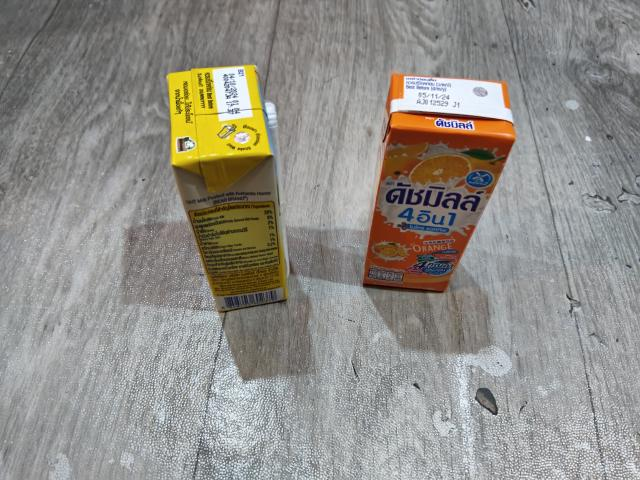drink_box: (165, 71, 296, 308), (371, 70, 508, 293)
